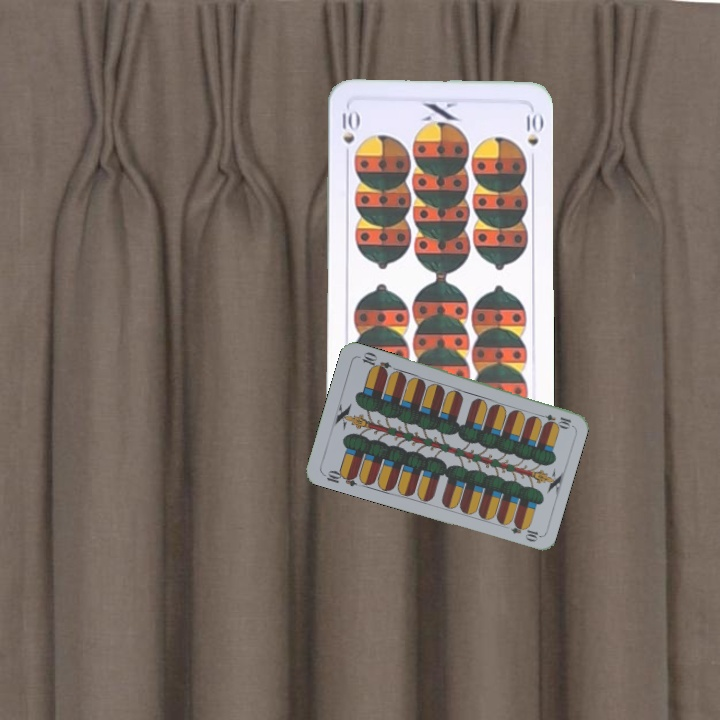E10: (319, 466, 360, 489), (533, 410, 574, 429)
S10: (338, 106, 359, 147)
